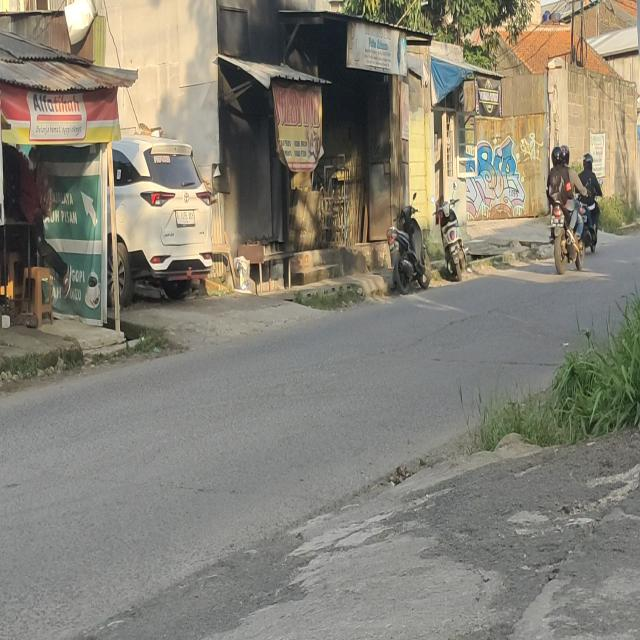helmet: (551, 147, 564, 169), (583, 154, 595, 170), (561, 144, 570, 165)
